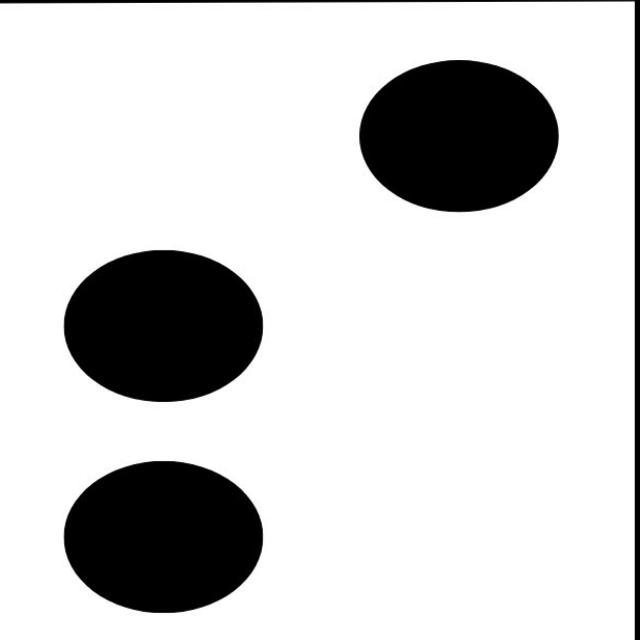letter_s: (60, 57, 561, 614)
